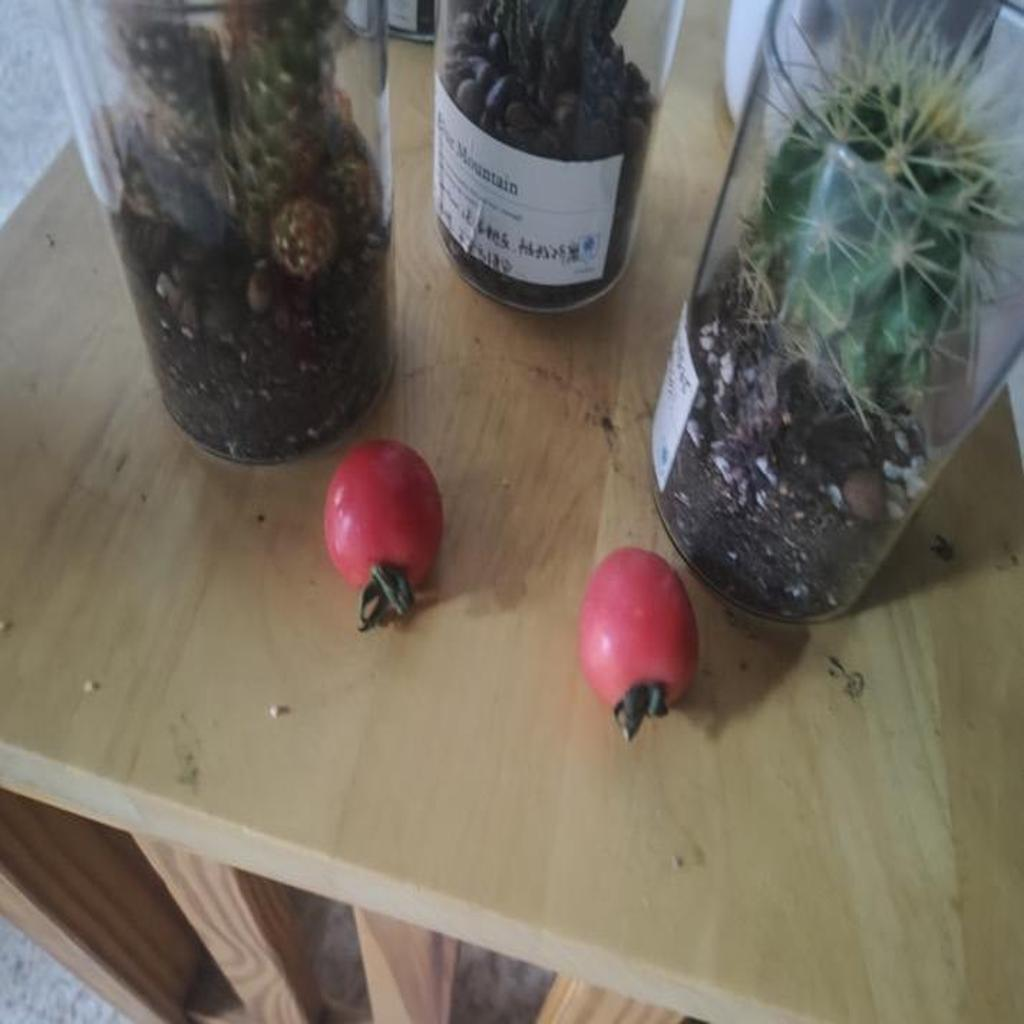tomato: (579, 543, 697, 713), (327, 445, 445, 599)
